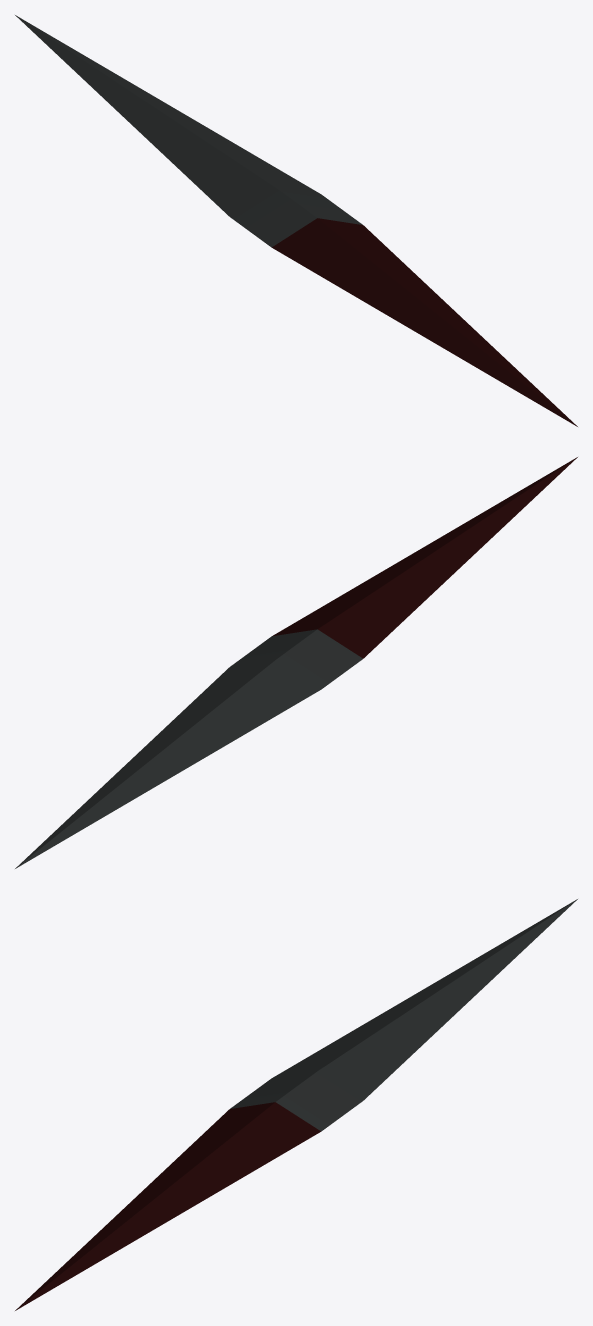
Rendered from compass_needle.fbx.
The picture shows the model from 3 angles, top to bottom: view 1: azimuth 30°, elevation 25°; view 2: azimuth 150°, elevation 25°; view 3: azimuth 330°, elevation 25°; orthographic projection.
Visible parts, largest first — view 1: polySurface3; view 2: polySurface3; view 3: polySurface3.
Part boxes in pixels (box(x1,y1,x2,y2)): polySurface3: box(15, 15, 577, 426); polySurface3: box(15, 457, 577, 868); polySurface3: box(15, 899, 577, 1310).
Size of the model in its own units: 0.3265 by 0.124 by 3.48.
